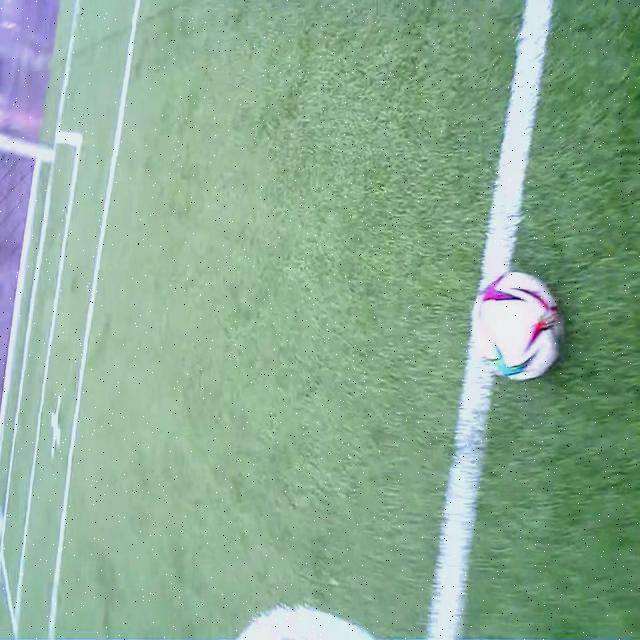ball: (477, 267, 565, 385)
